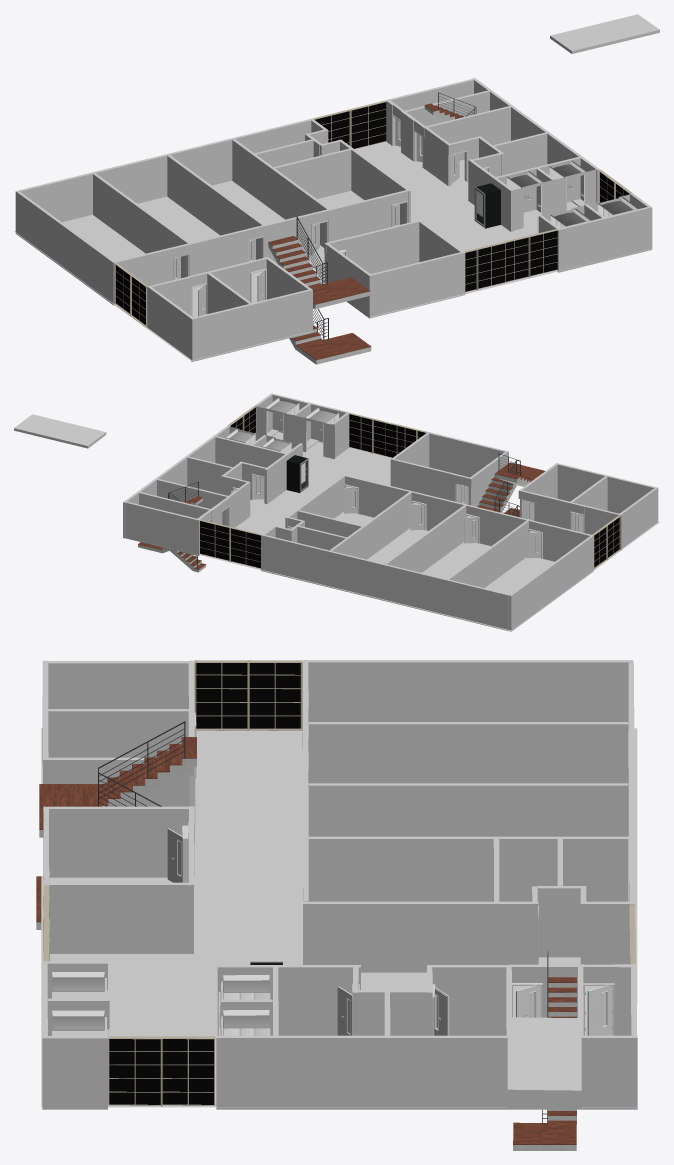
The model's file is oficinas.glb.
3 renders of one model, top to bottom at view 1: azimuth 30°, elevation 25°; view 2: azimuth 150°, elevation 25°; view 3: azimuth 270°, elevation 25°, orthographic. The views are drawn at different scales.
Parts seen in each view (by area): view 1: Cubo.001, Piso, Cubo.011, Plano, Cubo, Cubo.012, Cubo.028, Cubo.015, Cubo.014, Cubo.013, Stair1.001, Cubo.008 (+39 smaller); view 2: Cubo.001, Piso, Plano, Cubo, Cubo.017, Cubo.015, Cubo.013, Cubo.011, Cubo.014, Cubo.012, Cubo.008, Stair1.001 (+41 smaller); view 3: Piso, Cubo.016, Cubo, Cubo.013, Cubo.015, Cubo.014, Cubo.010, Cubo.009, Cubo.007, Cubo.006, Cubo.005, Restar (+31 smaller).
Part boxes in pixels (left/top/right/bottom): Cubo.001: left=19, top=118, right=313, bottom=222; Piso: left=14, top=180, right=527, bottom=360; Cubo.011: left=190, top=289, right=312, bottom=361; Plano: left=355, top=141, right=651, bottom=278; Cubo: left=15, top=190, right=114, bottom=305; Cubo.012: left=369, top=251, right=465, bottom=317; Cubo.028: left=560, top=206, right=649, bottom=271; Cubo.015: left=232, top=139, right=329, bottom=247; Cubo.014: left=167, top=155, right=264, bottom=259; Cubo.013: left=93, top=173, right=190, bottom=278; Stair1.001: left=268, top=216, right=370, bottom=308; Cubo.008: left=345, top=220, right=421, bottom=273; Cubo.001: left=261, top=534, right=509, bottom=630; Piso: left=228, top=454, right=659, bottom=630; Plano: left=198, top=429, right=375, bottom=561; Cubo: left=509, top=535, right=593, bottom=631; Cubo.017: left=125, top=501, right=198, bottom=555; Cubo.015: left=329, top=492, right=411, bottom=559; Cubo.013: left=447, top=520, right=528, bottom=587; Cubo.011: left=556, top=463, right=658, bottom=522; Cubo.014: left=384, top=505, right=466, bottom=572; Cubo.012: left=427, top=432, right=505, bottom=477; Cubo.008: left=390, top=458, right=456, bottom=501; Stair1.001: left=477, top=453, right=544, bottom=512; Piso: left=41, top=728, right=637, bottom=1004; Cubo.016: left=216, top=1035, right=637, bottom=1109; Cubo: left=303, top=660, right=633, bottom=730; Cubo.013: left=308, top=722, right=628, bottom=783; Cubo.015: left=308, top=836, right=628, bottom=901; Cubo.014: left=308, top=783, right=628, bottom=836; Cubo.010: left=303, top=901, right=538, bottom=972; Cubo.009: left=47, top=882, right=188, bottom=953; Cubo.007: left=43, top=806, right=194, bottom=877; Cubo.006: left=47, top=661, right=189, bottom=708; Cubo.005: left=47, top=709, right=188, bottom=757; Restar: left=507, top=1017, right=581, bottom=1095.
Size of the model in its own units: 95.32 by 21.27 by 48.59.
99 materials, 12 textured.
